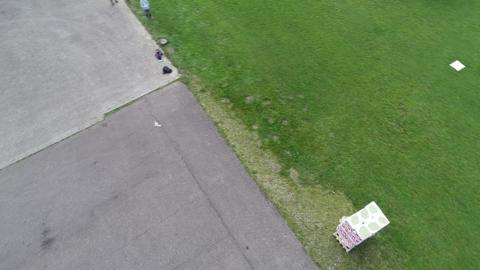RockwoolPallet: (336, 200, 391, 250)
